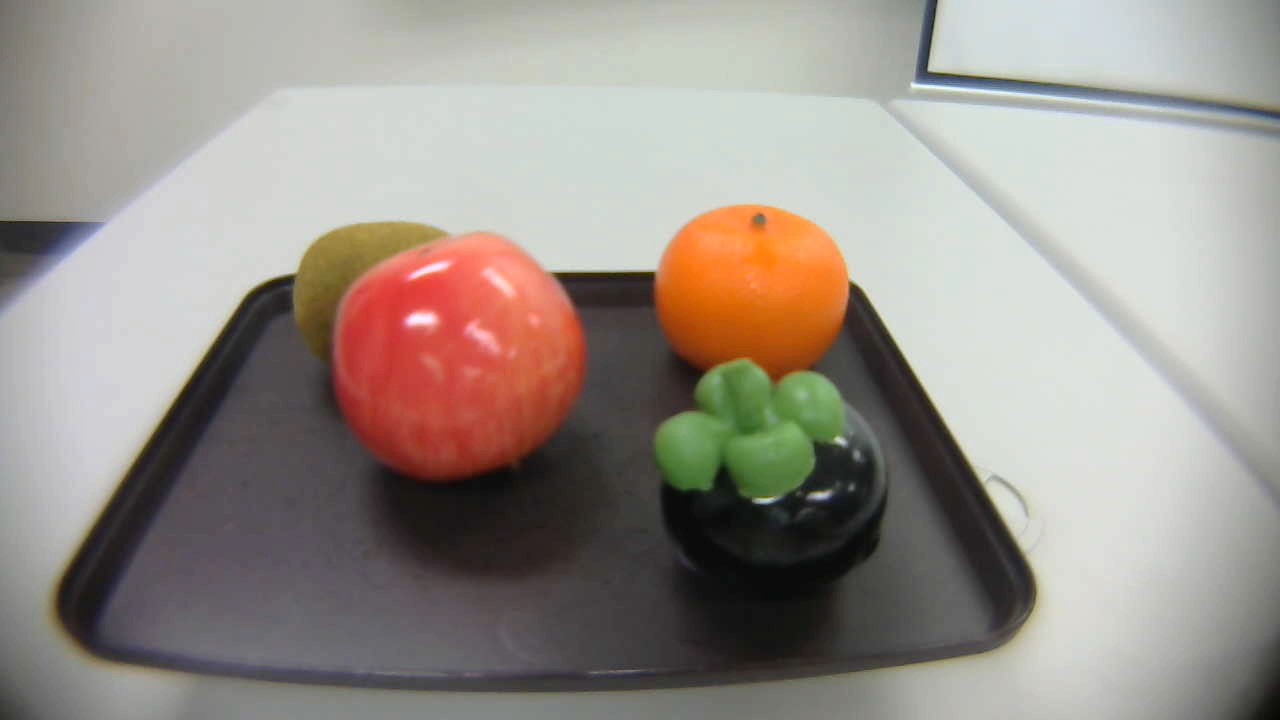kiwi fruit: (280, 216, 472, 363)
mangosteen: (629, 352, 897, 604)
orange: (643, 196, 858, 383)
red apple: (317, 226, 602, 488)
